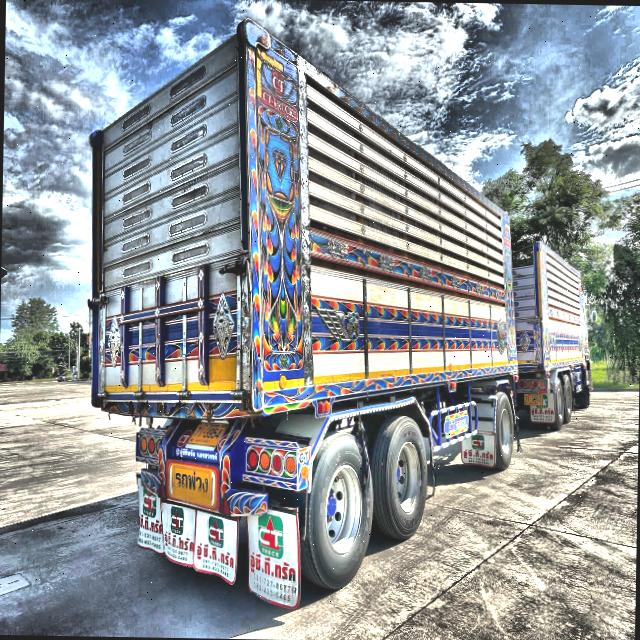trailer: (81, 16, 602, 594)
